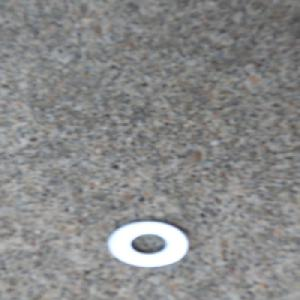Washer: (105, 218, 191, 268)
